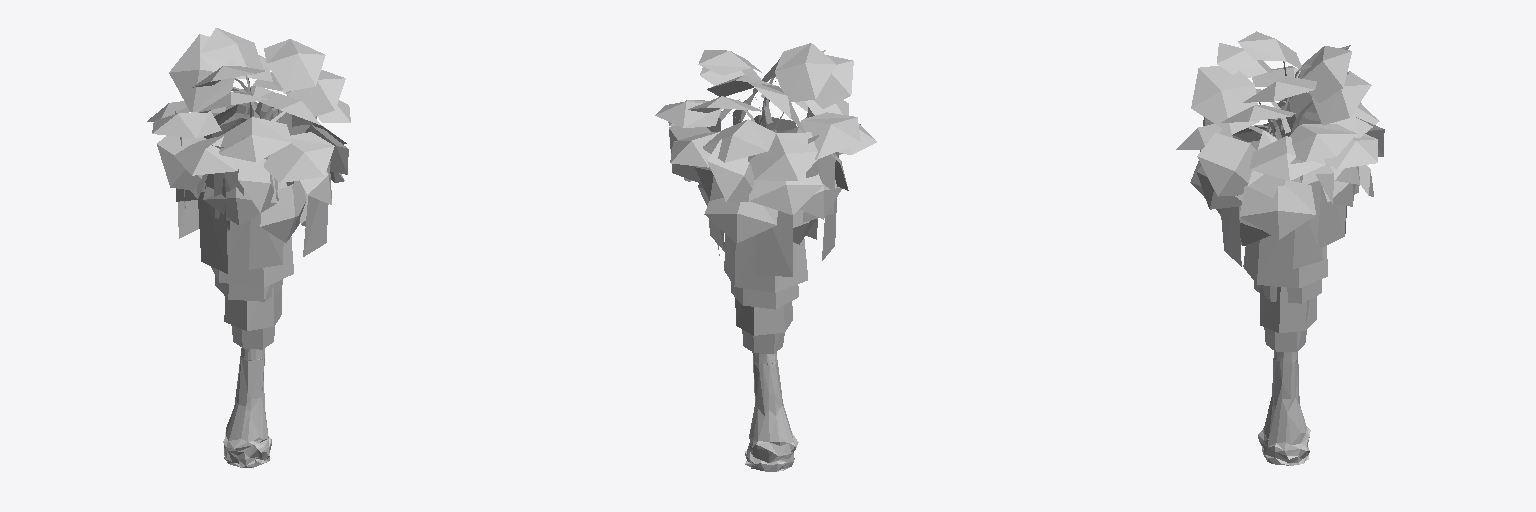
Rendered from prop_fan_palm_01a.obj.
3 views of the same model, side by side, from view 1: azimuth 30°, elevation 25°; view 2: azimuth 150°, elevation 25°; view 3: azimuth 270°, elevation 25° (orthographic).
Bounding box in the file's own units: 7.43 × 14.67 × 6.84.